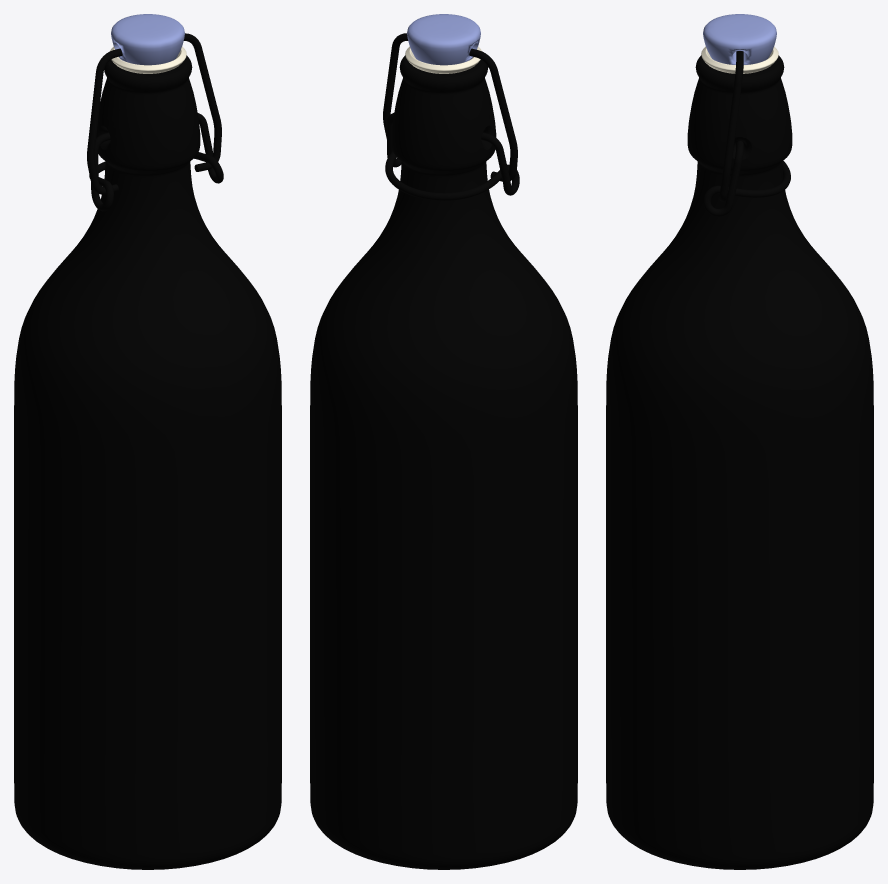
The model's file is Bottle of milk.fbx.
3 views of the same model, side by side, from view 1: azimuth 30°, elevation 25°; view 2: azimuth 150°, elevation 25°; view 3: azimuth 270°, elevation 25° (orthographic).
Visible parts, largest first — view 1: 10 Bottle; view 2: 10 Bottle; view 3: 10 Bottle.
Boxes of the visible parts, <box> form: 10 Bottle: <box>14,14,281,869</box>; 10 Bottle: <box>310,14,577,869</box>; 10 Bottle: <box>606,14,873,869</box>.
Size of the model in its own units: 86.94 by 284 by 86.94.
